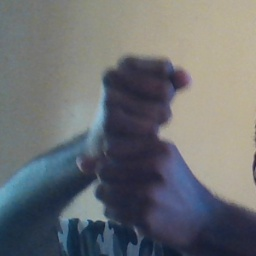G: (74, 43, 202, 231)
